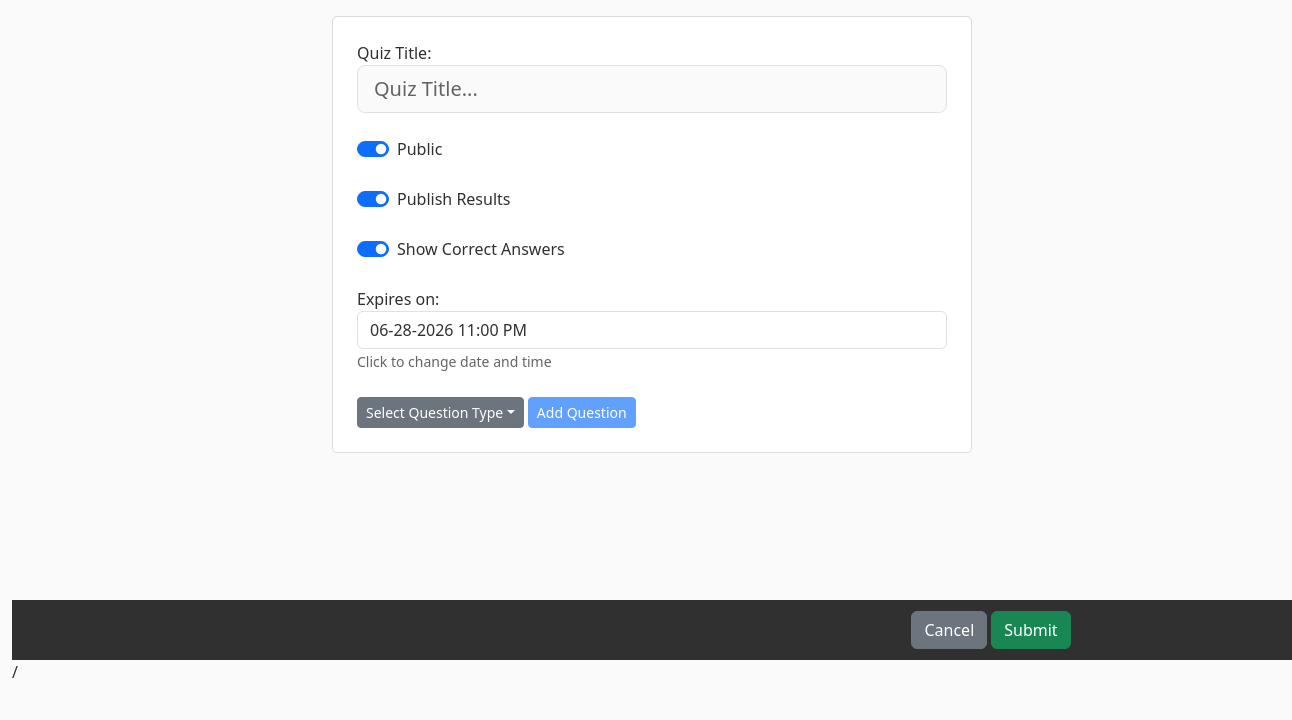
QuizEditorForm › displays the allowed users list after unchecking "Public"
What coordinates should you click on to do the following:
click the checkbox labelled "Public"
I would click on:
 (373, 149)
Its box is [357,141,389,157].
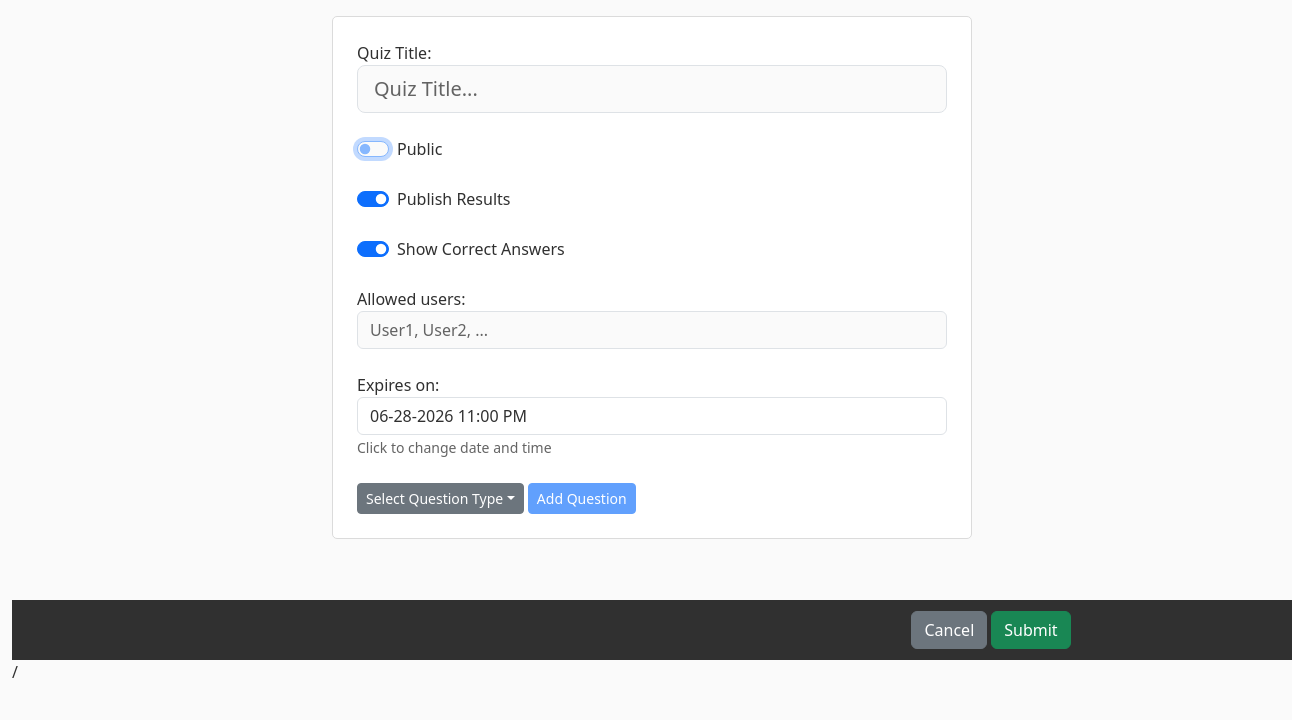
Expected: the checkbox labelled "Public" is not checked, [357,141,389,157]
Expected: the text "Allowed users:" is shown, [357,287,466,311]
